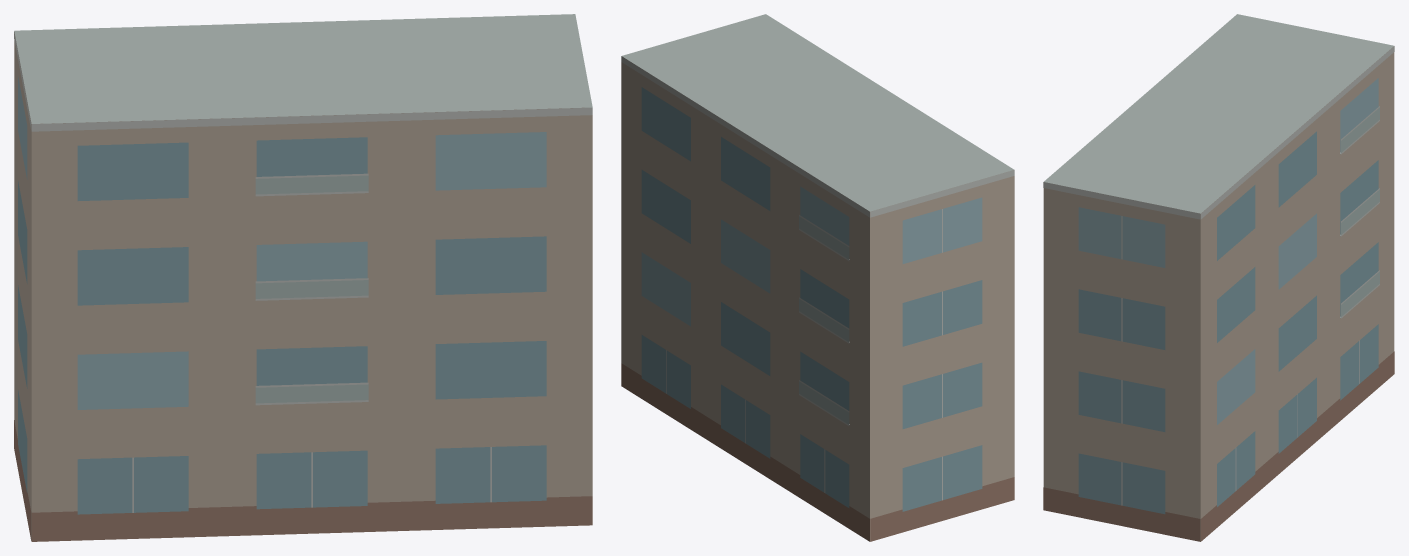
The model's file is survey-upis-32533985.glb.
3 views of the same model, side by side, from view 1: azimuth 30°, elevation 25°; view 2: azimuth 150°, elevation 25°; view 3: azimuth 270°, elevation 25° (orthographic). The views are drawn at different scales.
Parts seen in each view (by area): view 1: survey-upis-32533985.tmp; view 2: survey-upis-32533985.tmp; view 3: survey-upis-32533985.tmp.
Part boxes in pixels (box(x1,y1,x2,y2)): survey-upis-32533985.tmp: box(14, 14, 592, 541); survey-upis-32533985.tmp: box(621, 14, 1014, 541); survey-upis-32533985.tmp: box(1043, 14, 1394, 541).
Bounding box in the file's own units: 17.35 × 13.3 × 12.9.
